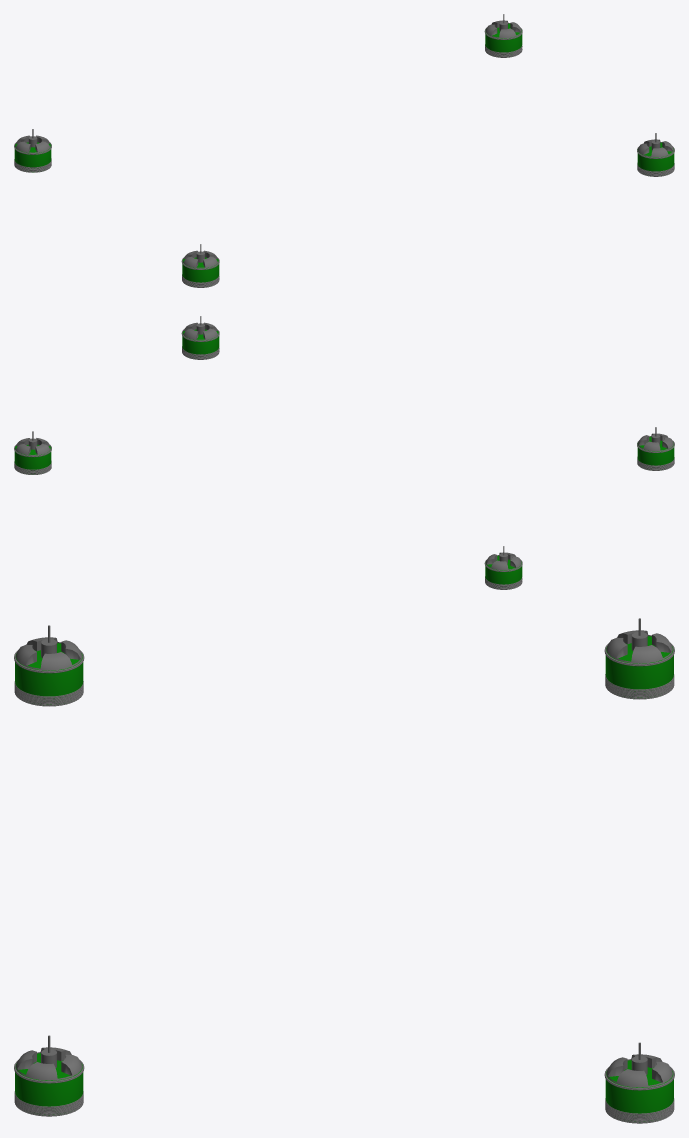
File: copter_motors_green.dae
3 renders of one model, top to bottom at view 1: azimuth 30°, elevation 25°; view 2: azimuth 150°, elevation 25°; view 3: azimuth 270°, elevation 25°, orthographic. The views are drawn at different scales.
Visible parts, largest first — view 1: Motor (×2), Motorrundung_oben (×2); view 2: Motor (×2), Motorrundung_oben (×2); view 3: Motor (×2), Motorrundung_oben (×2).
Boxes of the visible parts, <box> form: Motor (×2): <box>14,23,674,285</box>; Motorrundung_oben (×2): <box>15,20,673,268</box>; Motor (×2): <box>14,329,674,588</box>; Motorrundung_oben (×2): <box>15,322,673,570</box>; Motor (×2): <box>15,636,673,1122</box>; Motorrundung_oben (×2): <box>16,630,672,1087</box>.
Size of the model in its own units: 946 by 64.66 by 582.
